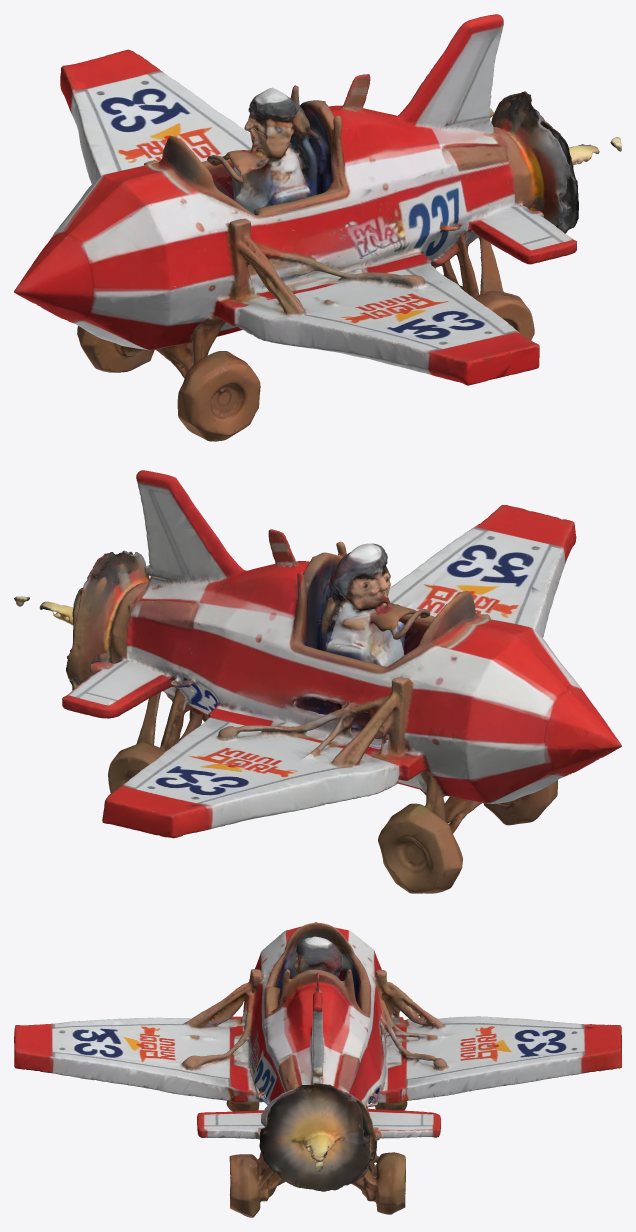
The model's file is Meshy_AI_Rocket_delta_0402170813_texture.glb.
3 renders of one model, top to bottom at view 1: azimuth 30°, elevation 25°; view 2: azimuth 150°, elevation 25°; view 3: azimuth 270°, elevation 25°, orthographic. The views are drawn at different scales.
Bounding box in the file's own units: 1.73 × 0.8497 × 2.
Materials: 1 (1 with a texture image).
